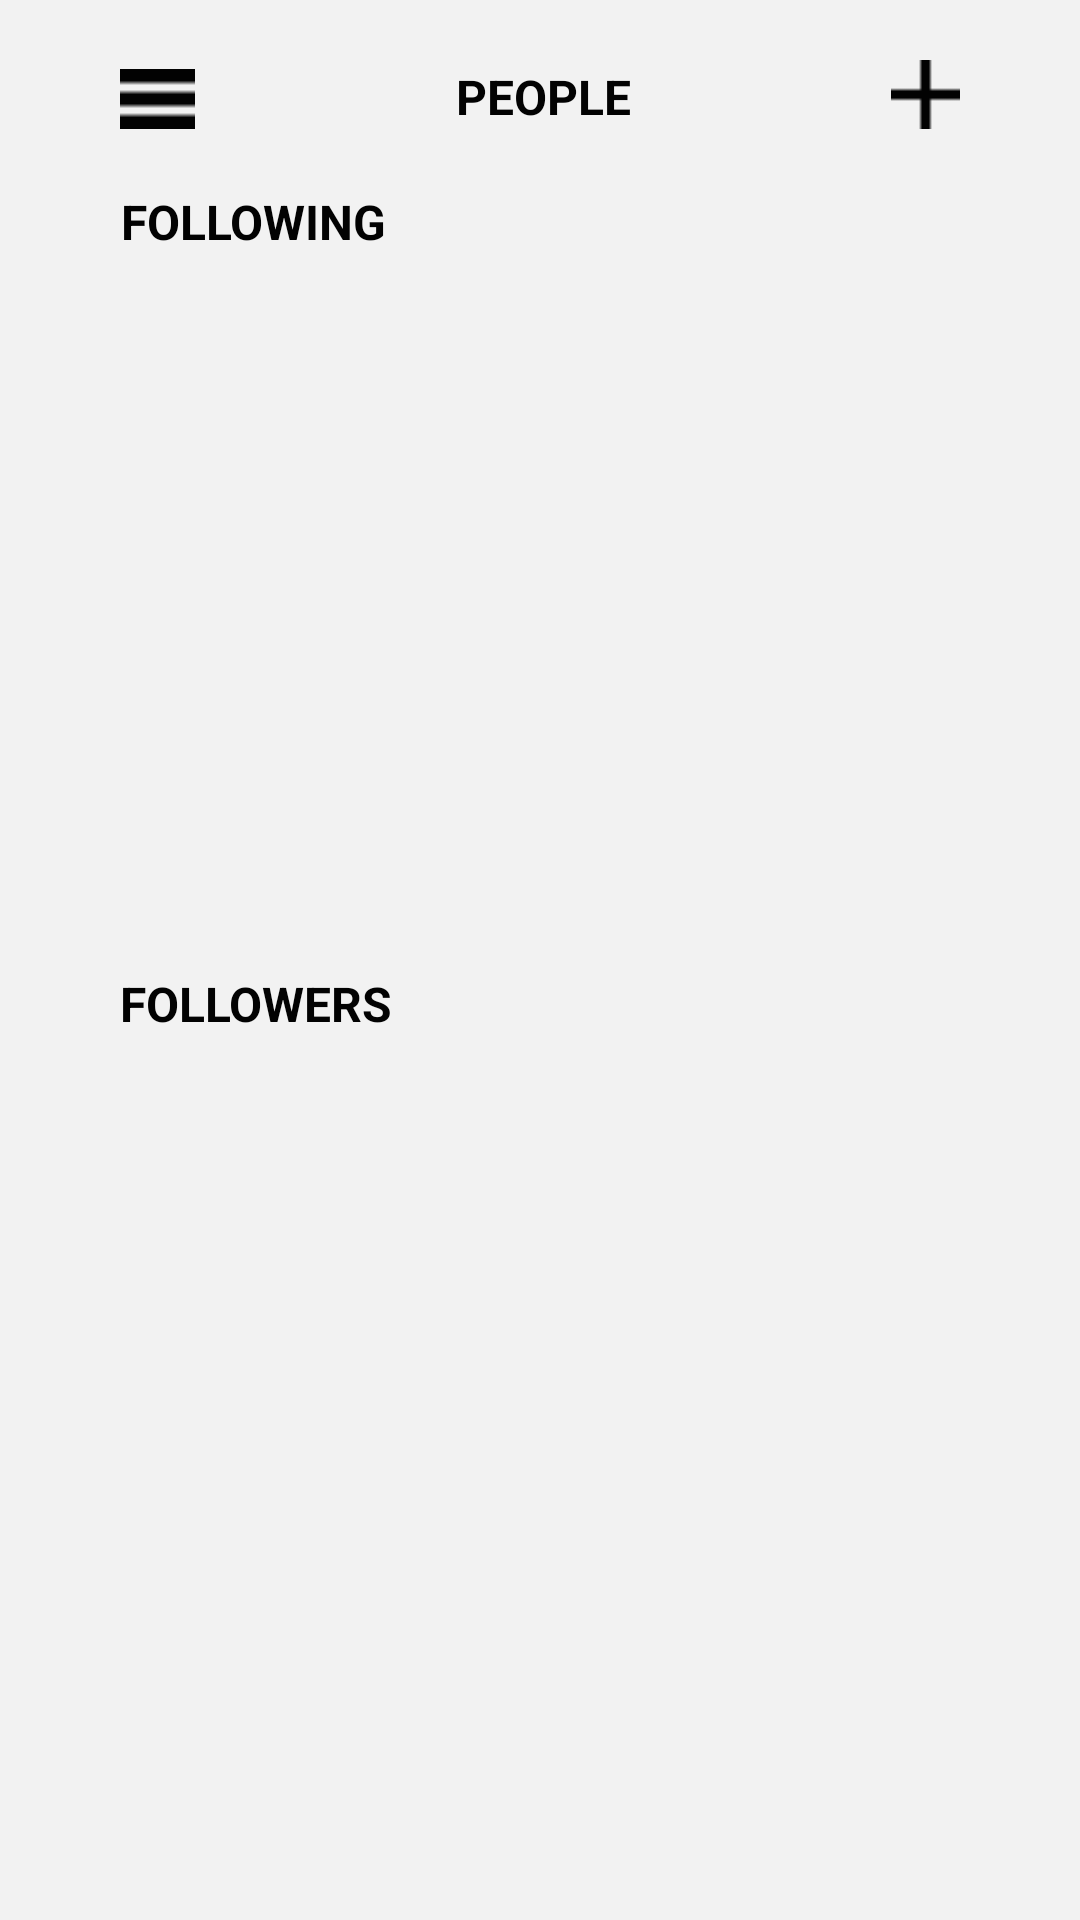

Icon bounding boxes for this 1080px×1920px phone screenshot, format box(x1, y1, x2, y2):
menu: box(120, 69, 195, 129)
plus sign: box(891, 60, 960, 129)
